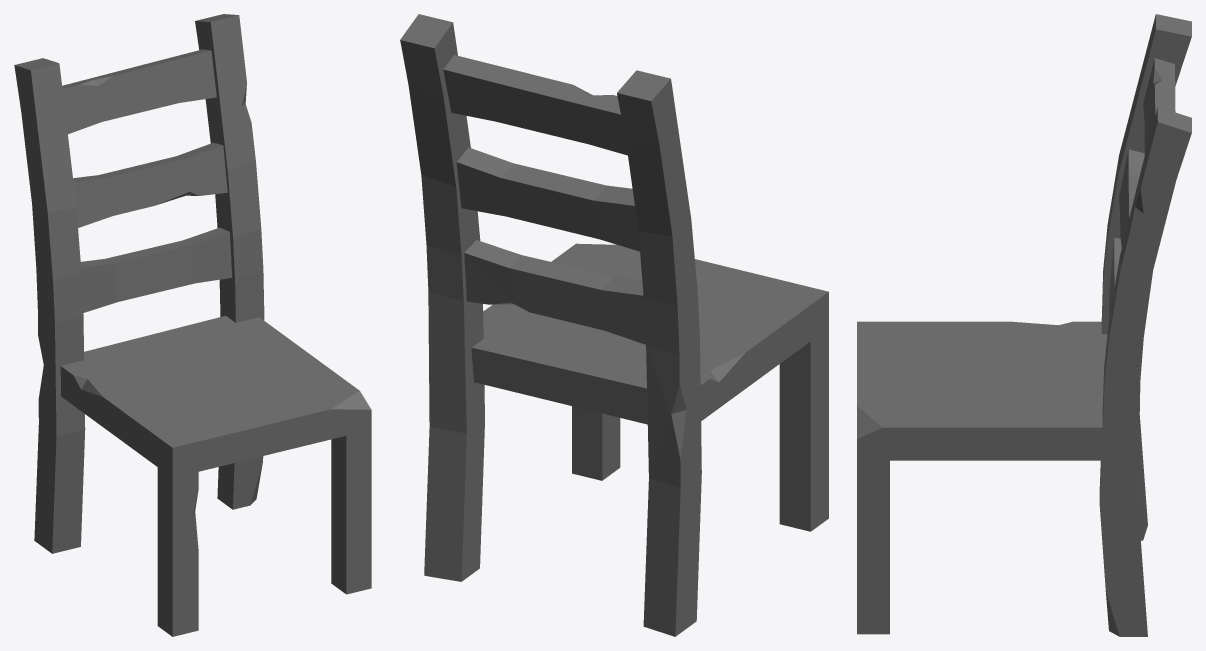
The model's file is SM_Gen_Prop_Chair_01.glb.
3 renders of one model, left to right at view 1: azimuth 30°, elevation 25°; view 2: azimuth 150°, elevation 25°; view 3: azimuth 270°, elevation 25°, orthographic. The views are drawn at different scales.
Parts seen in each view (by area): view 1: SM_Gen_Prop_Chair_01; view 2: SM_Gen_Prop_Chair_01; view 3: SM_Gen_Prop_Chair_01.
Boxes of the visible parts, x1,y1,x2,y2 form: SM_Gen_Prop_Chair_01: [14, 14, 371, 636]; SM_Gen_Prop_Chair_01: [400, 14, 828, 636]; SM_Gen_Prop_Chair_01: [857, 14, 1191, 636].
Bounding box in the file's own units: 0.5027 × 1.08 × 0.6367.
1 material, 1 textured.
